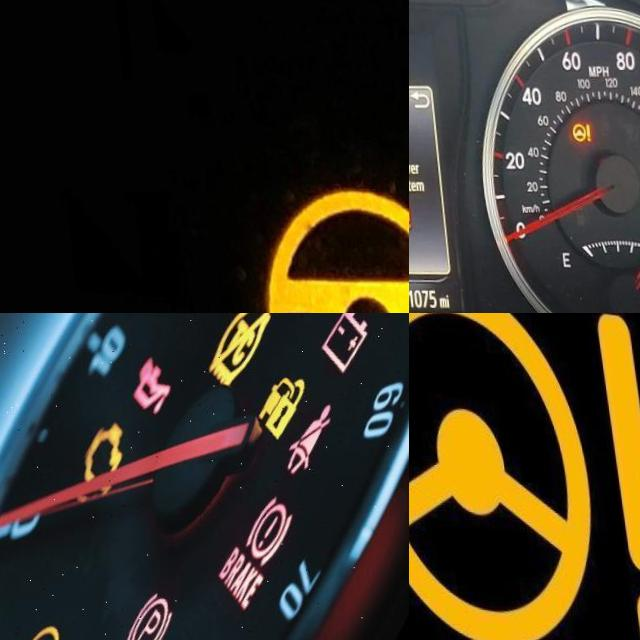Electronic Power Steering: (409, 313, 640, 640), (250, 180, 409, 313), (559, 116, 586, 142)
Seat Belt: (273, 398, 337, 469)
